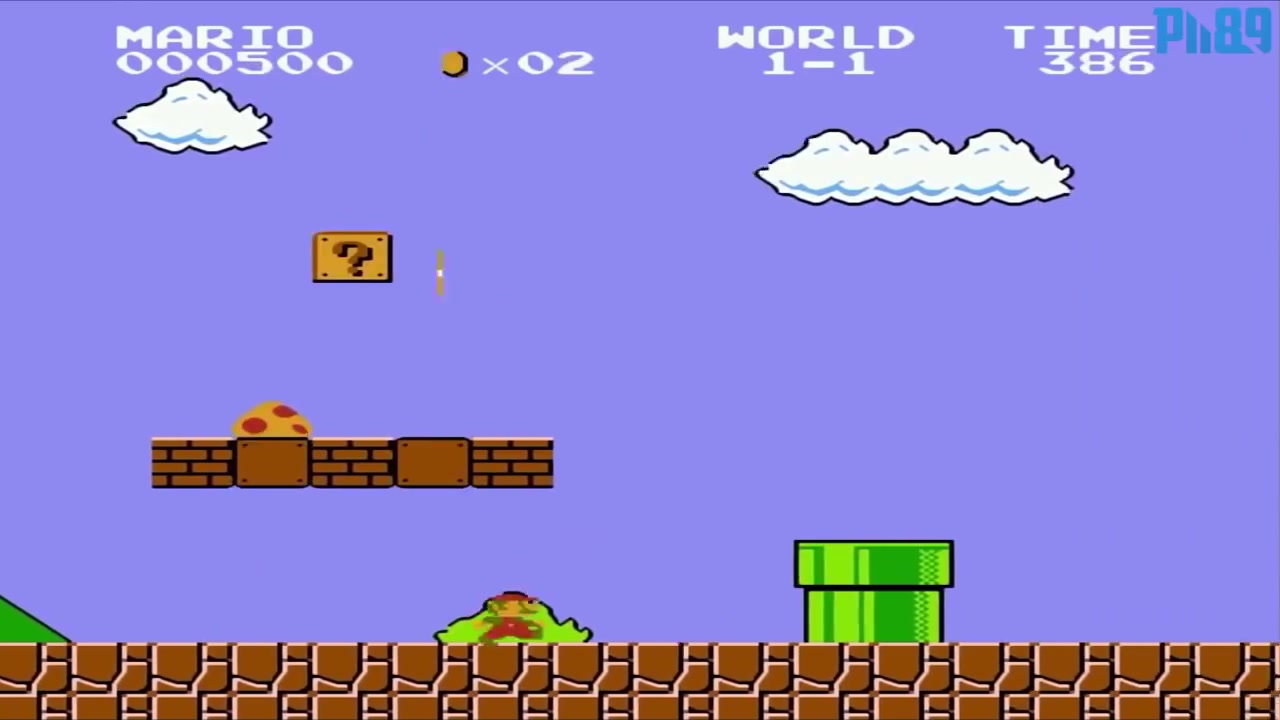mario: (475, 585, 550, 646)
